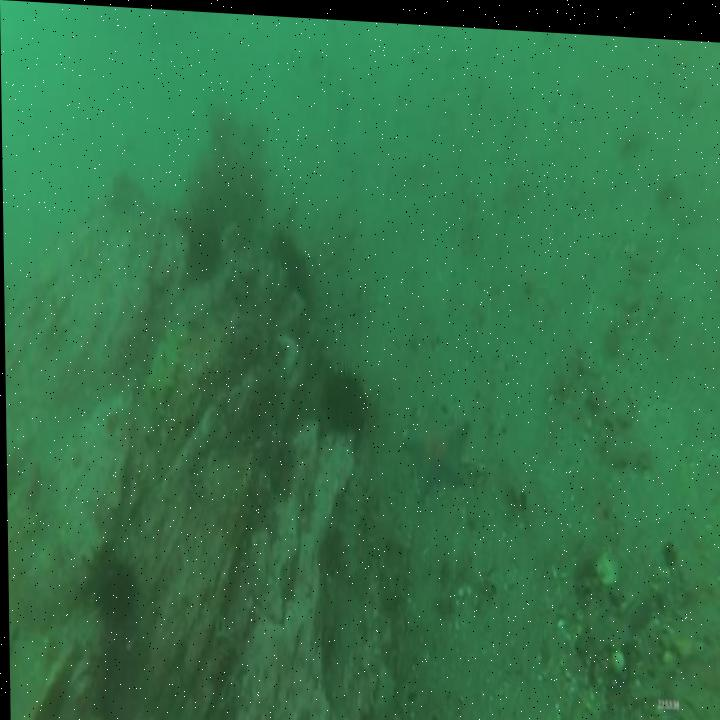echinus: (91, 560, 134, 628), (326, 363, 367, 433), (184, 220, 225, 275), (279, 231, 309, 297)
holothurian: (134, 321, 184, 425), (339, 473, 363, 579)
starfish: (402, 394, 469, 496)
